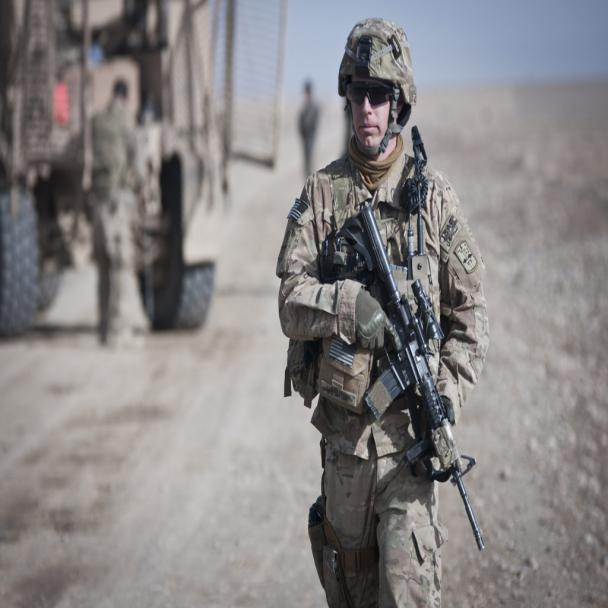Gun: (350, 198, 489, 565)
Hand: (278, 271, 402, 363)
